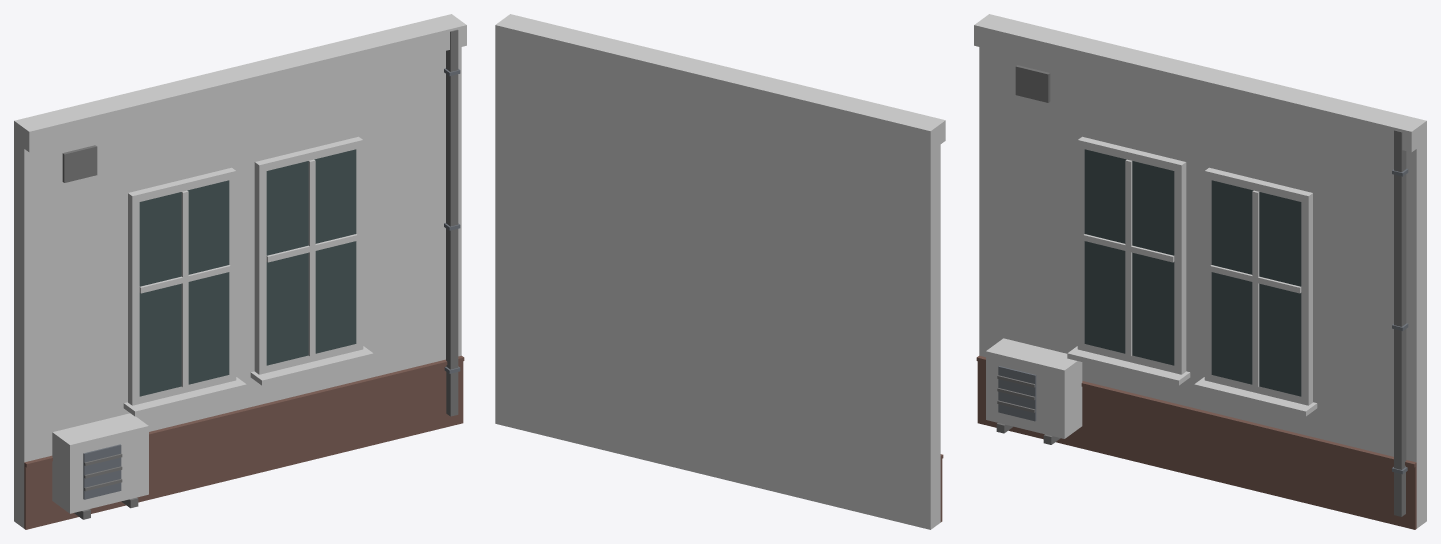
File: mid-w1_close.fbx
3 renders of one model, left to right at view 1: azimuth 30°, elevation 25°; view 2: azimuth 150°, elevation 25°; view 3: azimuth 330°, elevation 25°, orthographic.
Visible parts, largest first — view 1: a2000/500/mid-w1_close; view 2: a2000/500/mid-w1_close; view 3: a2000/500/mid-w1_close.
Boxes of the visible parts, x1,y1,x2,y2 form: a2000/500/mid-w1_close: (14, 14, 466, 529); a2000/500/mid-w1_close: (495, 14, 945, 529); a2000/500/mid-w1_close: (974, 14, 1426, 529).
Bounding box in the file's own units: 4 × 3.5 × 0.5.
